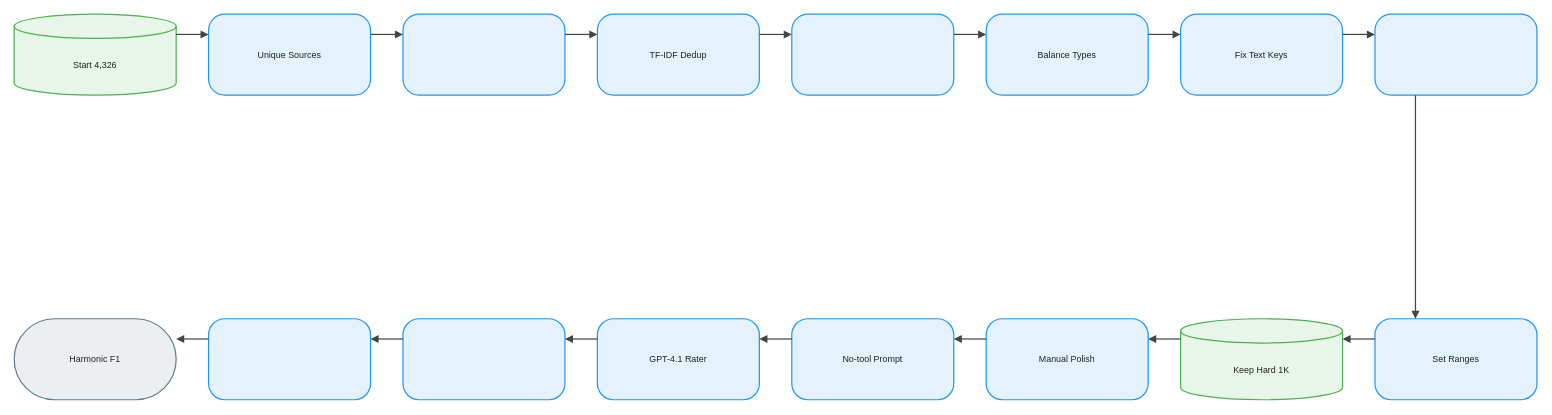
Some shapes in this 1552 by 415 pixel diagram are drawn without their labels. The shapes that lost their labels are listed below. From the top down, each one's box as (x1, y1, x2, y2) in pixels, then its label:
(402, 13, 565, 95): Embed Dedup
(791, 13, 954, 95): Honor Robots
(1374, 13, 1537, 95): Fix Numeric
(208, 318, 371, 400): Acc. & CGA
(402, 318, 565, 400): Ternary Grade
